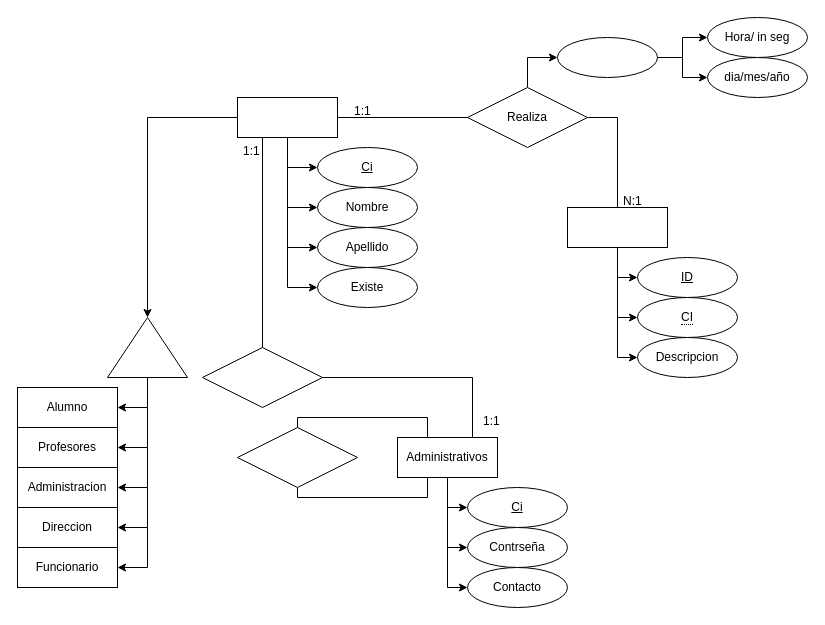
This 825x625 diagram has some shape labels left out. Here are the shapes that lost their labels. From the top down, the centre of each, then its label:
point 607,57: Fecha
point 287,117: Usuarios
point 617,227: Registro
point 262,377: Pueden ser
point 297,457: Es Jefe
